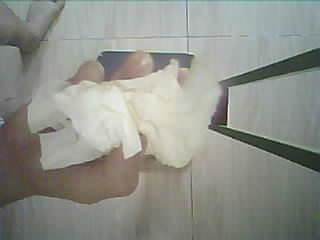paper: (29, 60, 209, 170)
